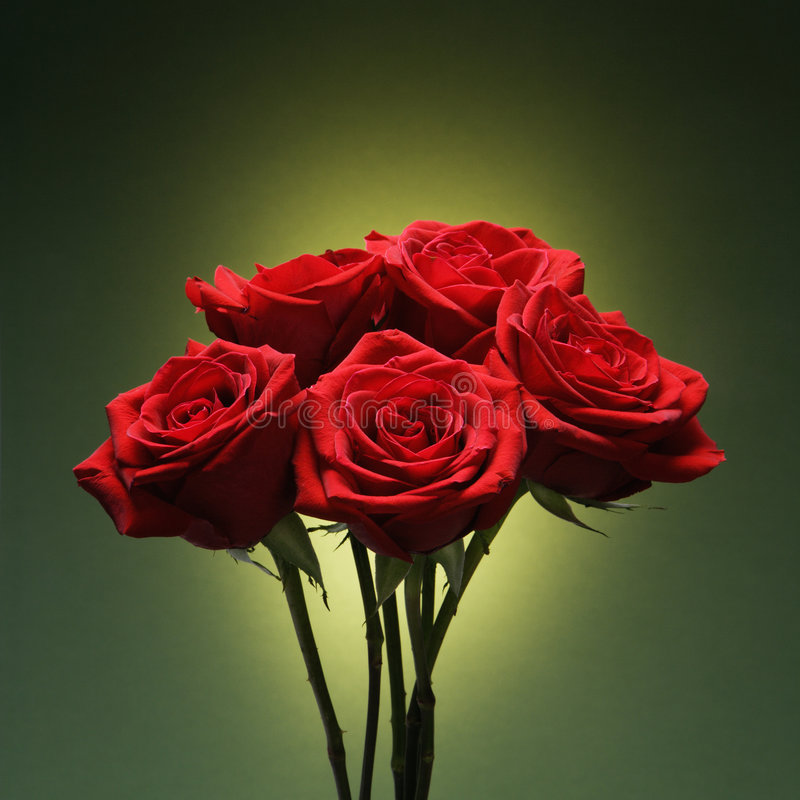RedRose: (278, 341, 527, 570), (498, 293, 736, 527), (68, 318, 293, 565), (185, 201, 392, 355), (376, 205, 586, 342)
